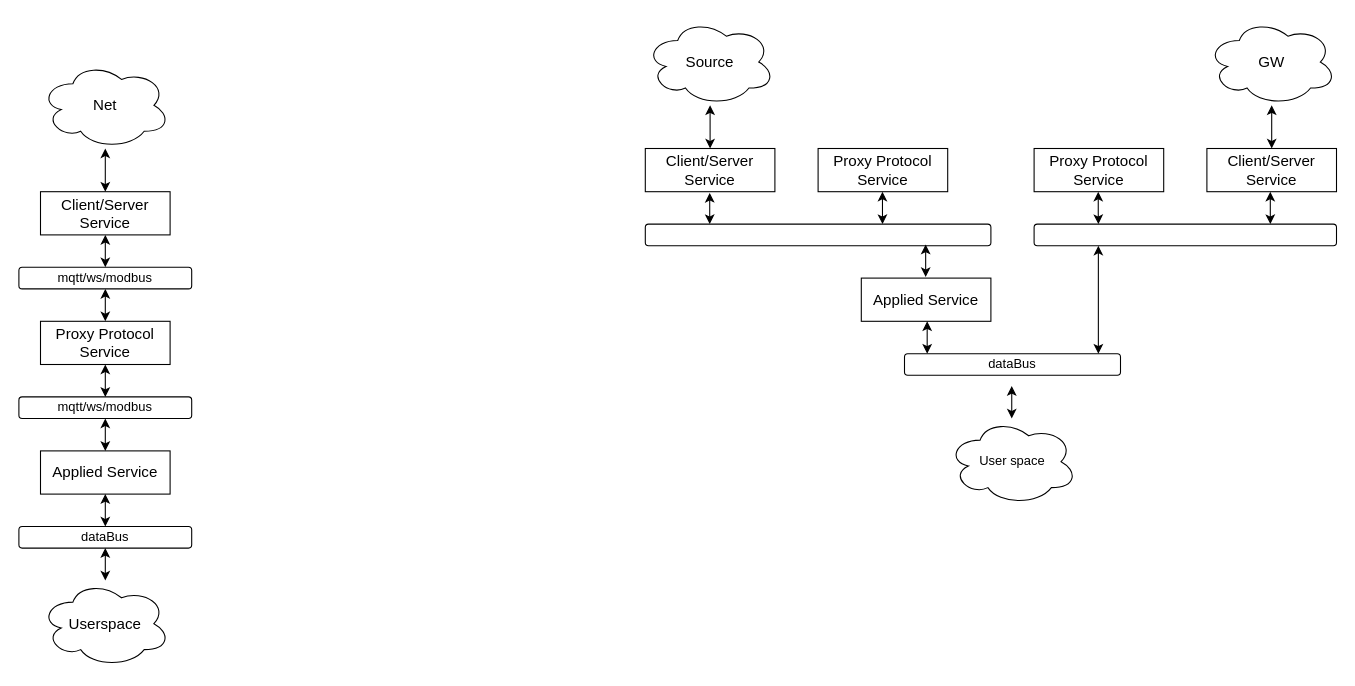
Image size: 1355x686. Some labels were removed from this diagram. Here are the shapes that lost their labels. From the top down, the box of each, then its label:
(644, 223, 991, 246): mqttbus
(1033, 223, 1336, 246): mqttGwBus
